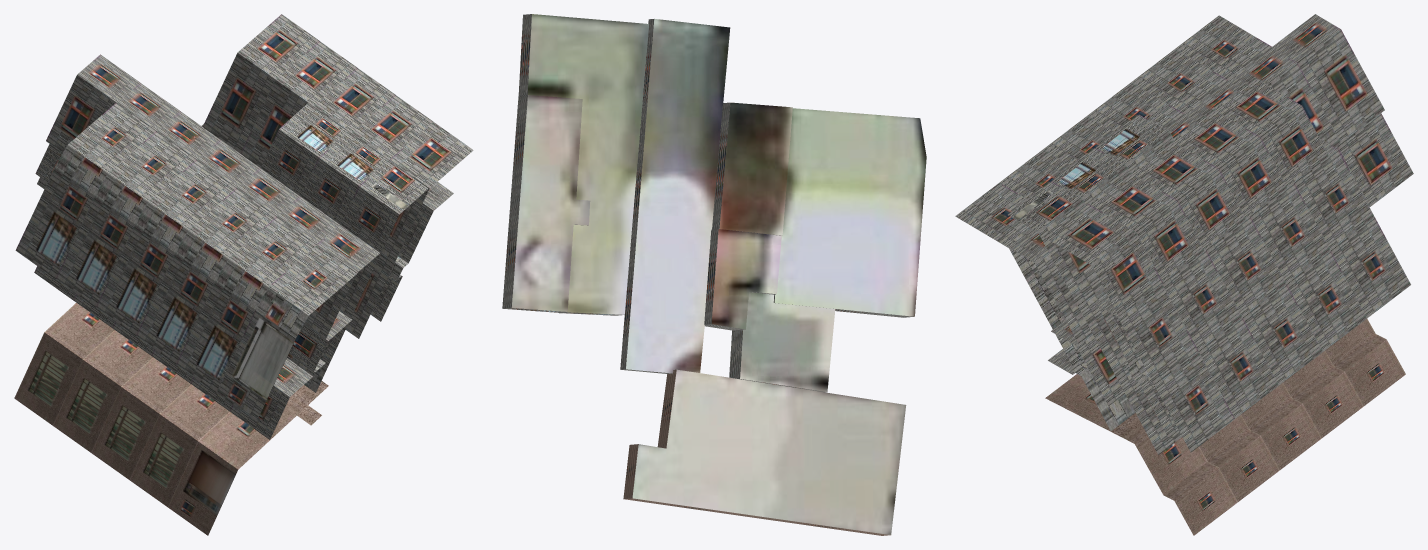
The picture shows the model from 3 angles, left to right: view 1: azimuth 30°, elevation 25°; view 2: azimuth 150°, elevation 25°; view 3: azimuth 270°, elevation 25°; orthographic projection. The views are drawn at different scales.
Size of the model in its own units: 28.17 by 29.75 by 26.37.
30 materials, 30 textured.
